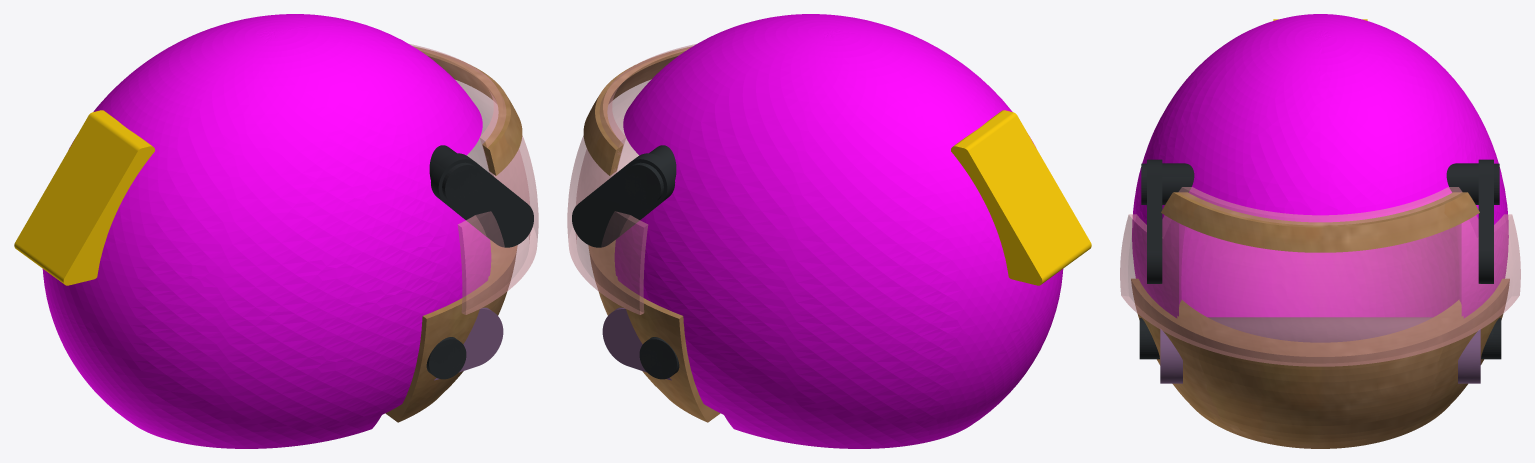
Rendered from Headwear_Racing_helmet__0021.glb.
The picture shows the model from 3 angles, left to right: view 1: azimuth 30°, elevation 25°; view 2: azimuth 150°, elevation 25°; view 3: azimuth 270°, elevation 25°; orthographic projection. The views are drawn at different scales.
Visible parts, largest first — view 1: shell::shell_dome, shell::rear_spoiler, visor::visor_panel, shell::chin_trim, visor::visor_pivot_arms, visor::visor_trim, chin_bar::chin_bar_shell, pivot_stud_right::pivot_stud_right, chin_pivot_right::chin_pivot_right; view 2: shell::shell_dome, shell::rear_spoiler, visor::visor_panel, shell::chin_trim, visor::visor_pivot_arms, visor::visor_trim, chin_bar::chin_bar_shell, pivot_stud_left::pivot_stud_left, chin_pivot_left::chin_pivot_left; view 3: shell::shell_dome, visor::visor_panel, shell::chin_trim, visor::visor_trim, chin_bar::chin_bar_shell, visor::visor_pivot_arms, visor::visor_axle, chin_pivot_left::chin_pivot_left, chin_pivot_right::chin_pivot_right.
Part boxes in pixels (x1,y1,x2,y2): shell::shell_dome: [42, 14, 491, 448]; shell::rear_spoiler: [14, 110, 154, 285]; visor::visor_panel: [409, 44, 538, 314]; shell::chin_trim: [385, 240, 517, 422]; visor::visor_pivot_arms: [431, 153, 533, 247]; visor::visor_trim: [413, 46, 522, 175]; chin_bar::chin_bar_shell: [434, 307, 503, 380]; pivot_stud_right::pivot_stud_right: [442, 162, 482, 205]; chin_pivot_right::chin_pivot_right: [426, 337, 466, 379]; shell::shell_dome: [614, 14, 1063, 448]; shell::rear_spoiler: [951, 110, 1091, 285]; visor::visor_panel: [567, 44, 696, 314]; shell::chin_trim: [588, 240, 720, 422]; visor::visor_pivot_arms: [572, 153, 675, 247]; visor::visor_trim: [583, 46, 692, 175]; chin_bar::chin_bar_shell: [602, 307, 671, 380]; pivot_stud_left::pivot_stud_left: [623, 162, 663, 205]; chin_pivot_left::chin_pivot_left: [639, 337, 679, 379]; shell::shell_dome: [1132, 14, 1508, 317]; visor::visor_panel: [1120, 187, 1520, 366]; shell::chin_trim: [1131, 279, 1509, 448]; visor::visor_trim: [1161, 192, 1479, 252]; chin_bar::chin_bar_shell: [1160, 317, 1480, 383]; visor::visor_pivot_arms: [1147, 159, 1493, 283]; visor::visor_axle: [1162, 163, 1478, 204]; chin_pivot_left::chin_pivot_left: [1481, 318, 1501, 359]; chin_pivot_right::chin_pivot_right: [1139, 318, 1159, 359].
Bounding box in the file's own units: 0.2786 × 0.2001 × 0.2127.
6 materials, 4 textured.
